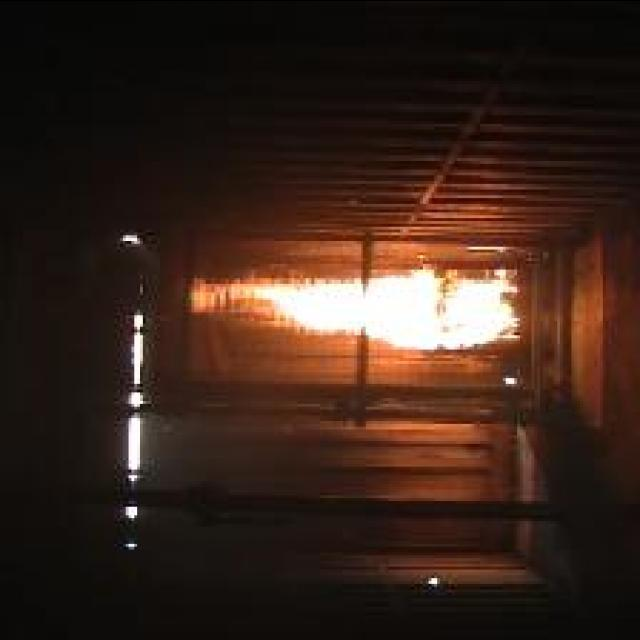Fire: (192, 266, 520, 348)
